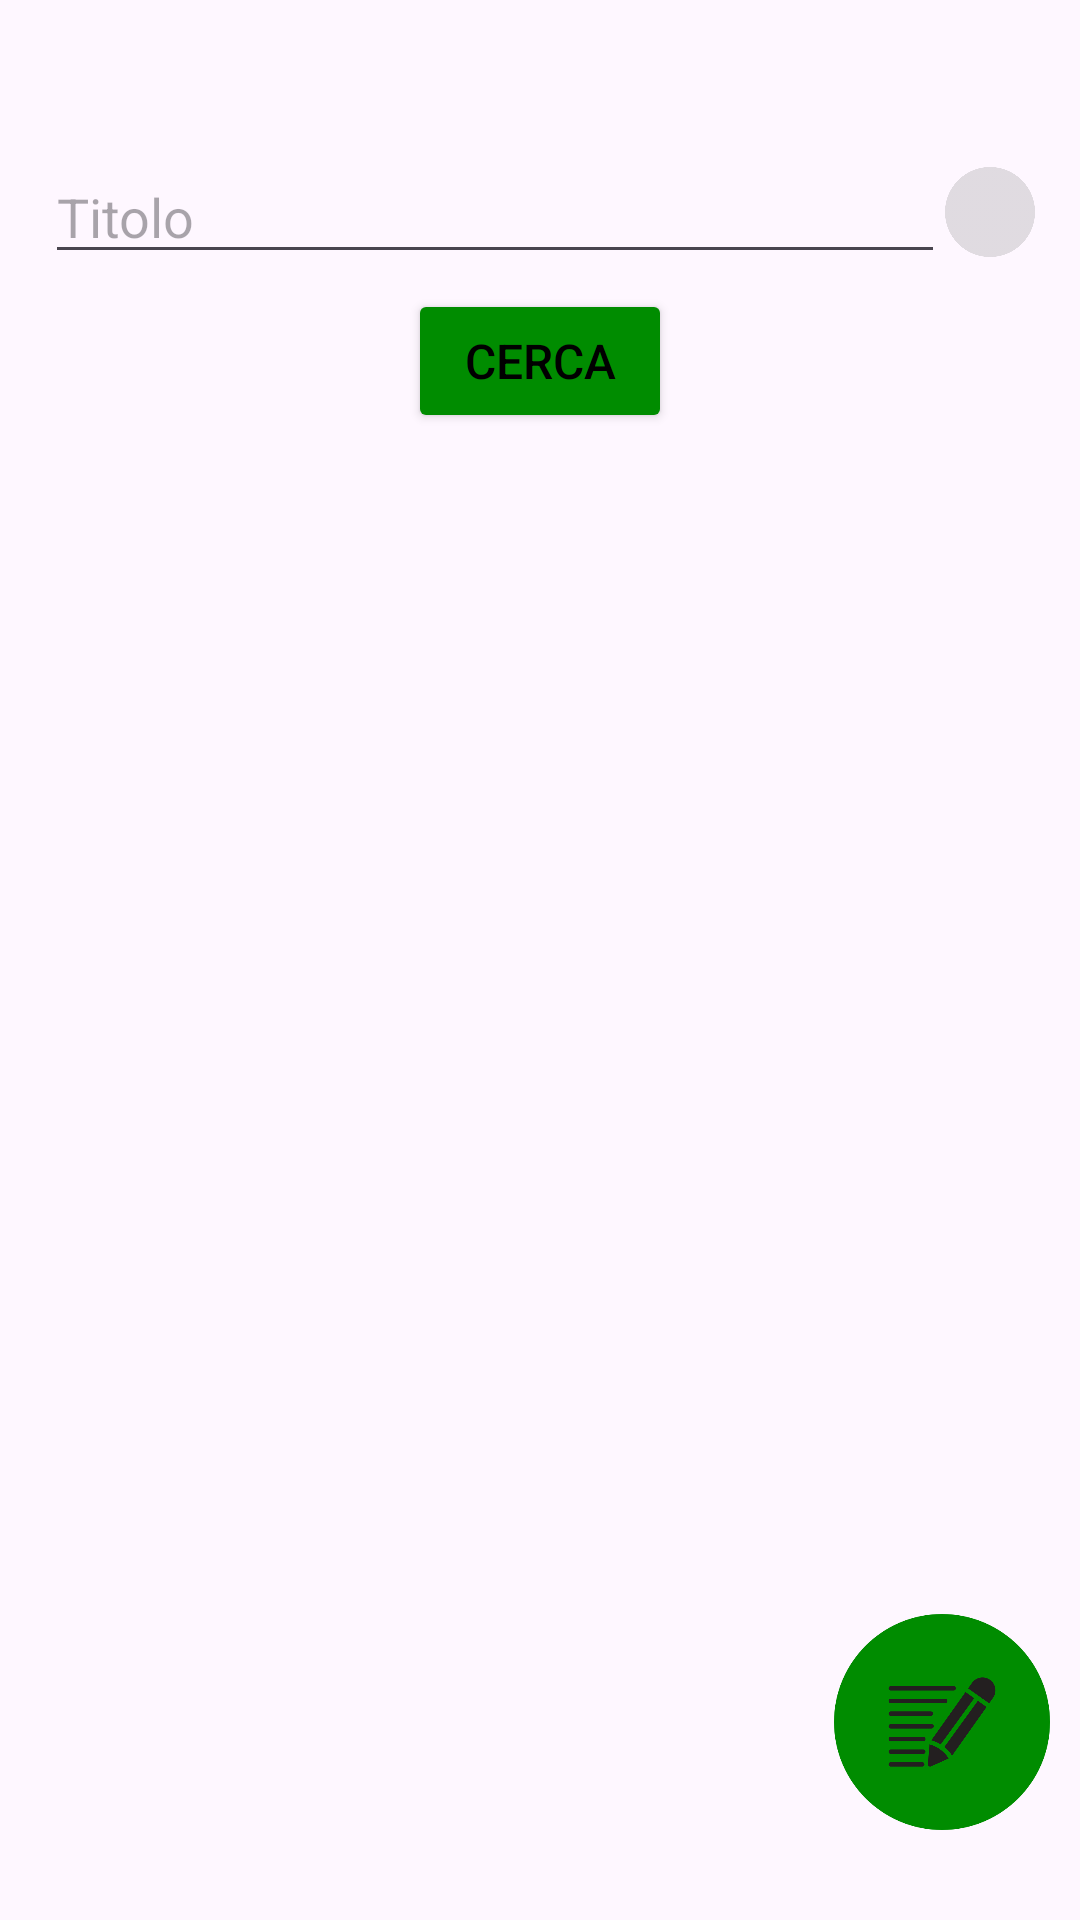

Named icons in this screenshot (1080*1920) and their centers, [x,y]:
add custom: [942,1722]
